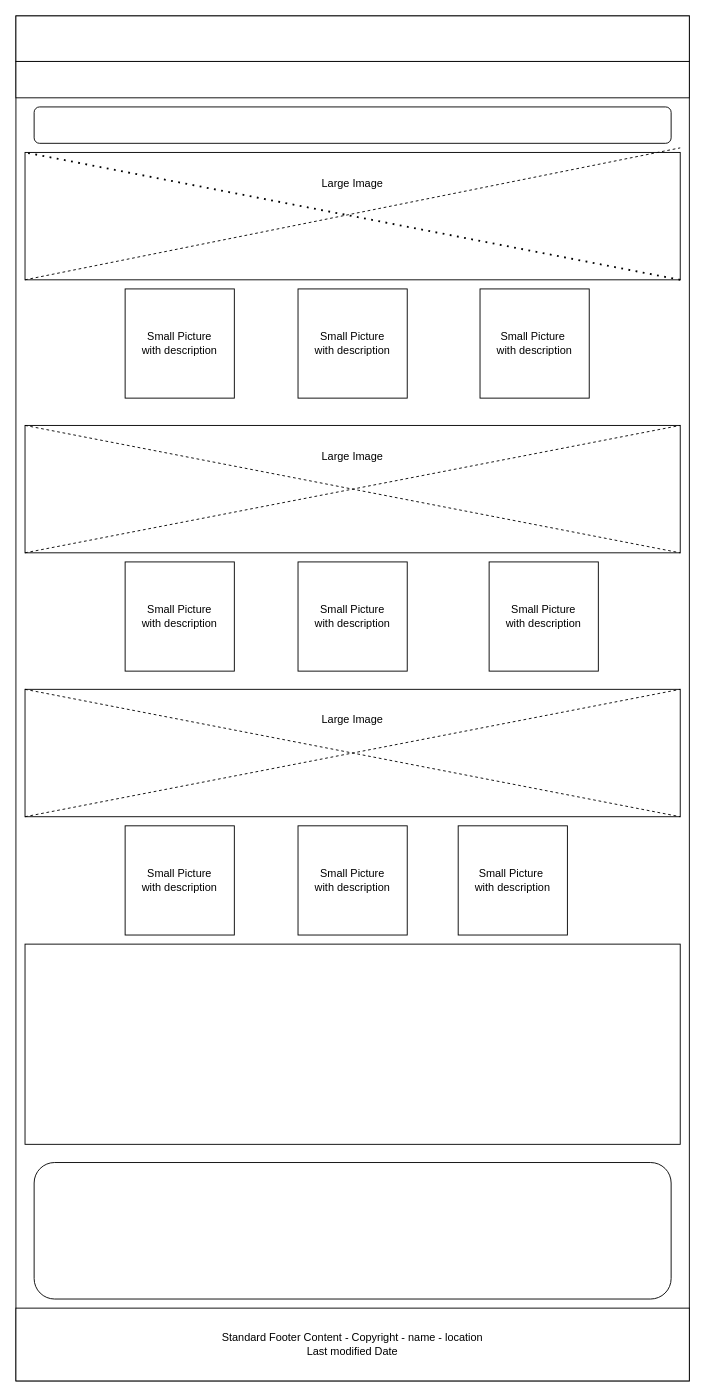
Image size: 705x1397. Some labels were removed from this diagram. The centre of each missing label's shape, as x and y in pixels:
"Contact Us / Social Media" goes at (352,1230).
"Frequently Asked Questions" goes at (352,1043).
"Navigation Menu" goes at (352,79).
"Page Purpose" goes at (352,124).
"PAGE TITLE" goes at (352,38).
